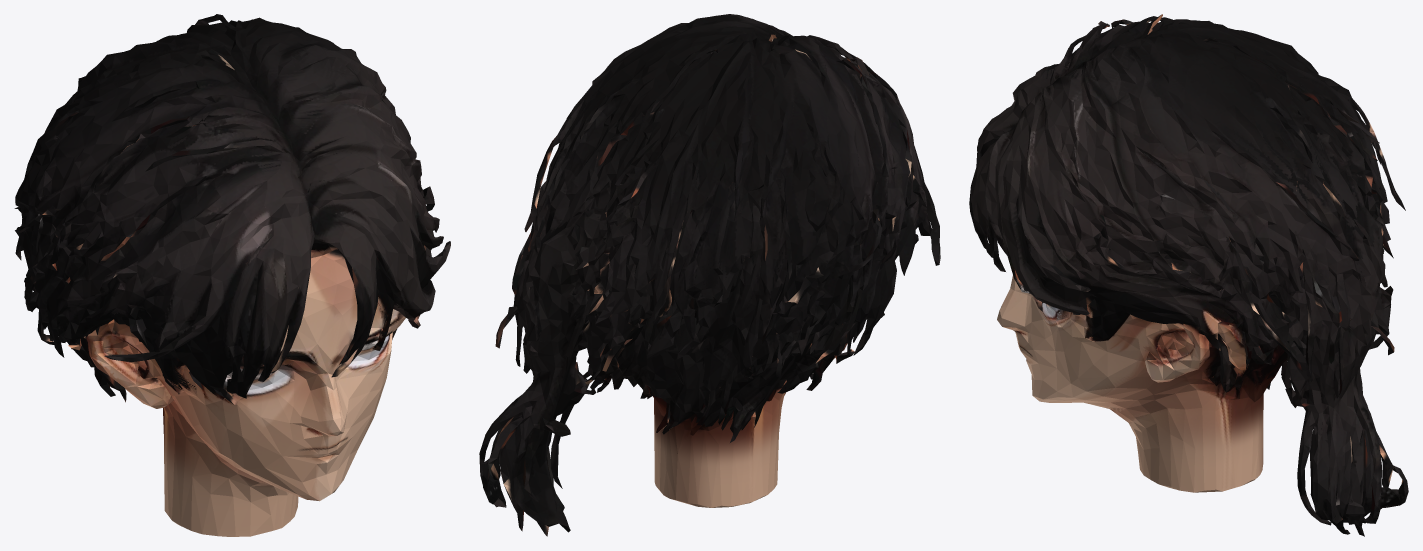
The model's file is side_senior_student_repaired_atlas.glb.
3 renders of one model, left to right at view 1: azimuth 30°, elevation 25°; view 2: azimuth 150°, elevation 25°; view 3: azimuth 270°, elevation 25°, orthographic. The views are drawn at different scales.
Parts seen in each view (by area): view 1: temp_mesh.ply; view 2: temp_mesh.ply; view 3: temp_mesh.ply.
Boxes of the visible parts, left/top/right/bottom form: temp_mesh.ply: left=14, top=14, right=450, bottom=536; temp_mesh.ply: left=479, top=14, right=940, bottom=536; temp_mesh.ply: left=969, top=14, right=1408, bottom=536.
Bounding box in the file's own units: 1.17 × 1.53 × 1.35.
Materials: 1 (1 with a texture image).
